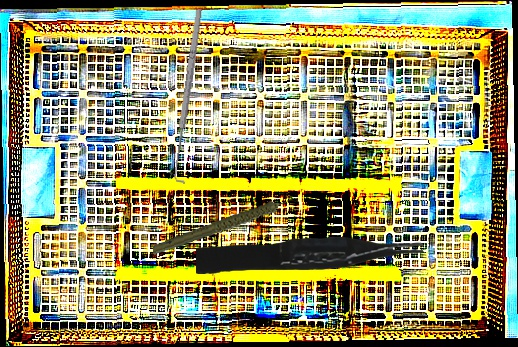Handpiece: (149, 197, 303, 256)
Hook Surgical: (169, 8, 210, 184)
Tissue Forceps: (196, 237, 423, 274)
